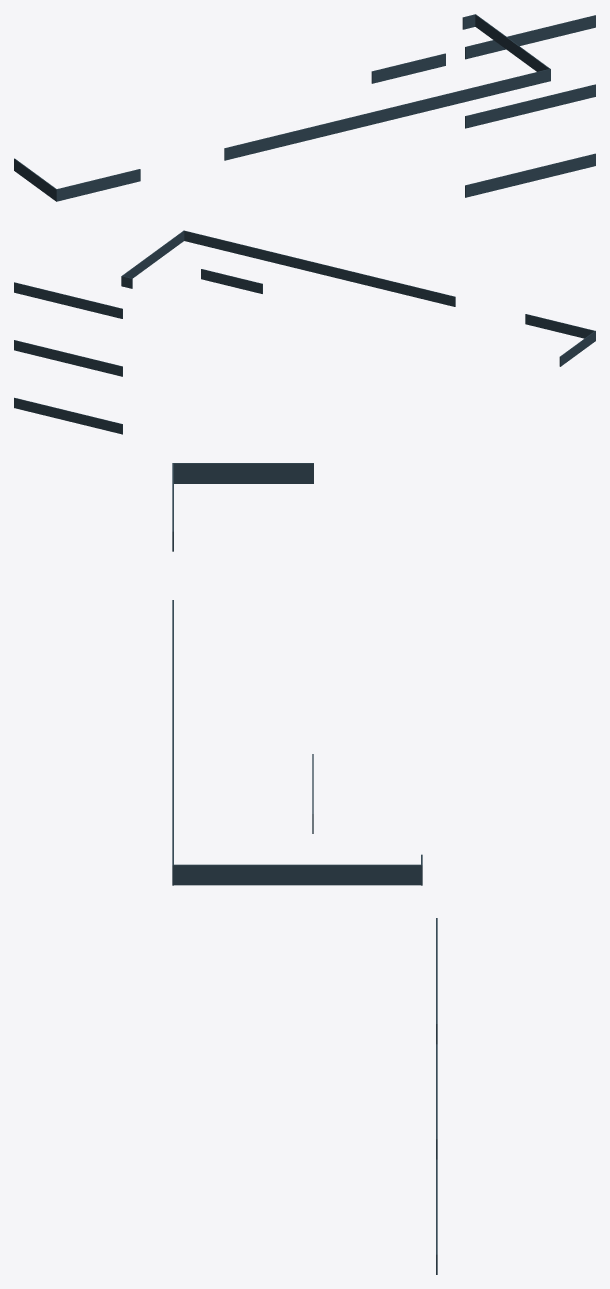
Rendered from v02-04-07-steel.glb.
3 views of the same model, one above another, from view 1: azimuth 30°, elevation 25°; view 2: azimuth 150°, elevation 25°; view 3: azimuth 270°, elevation 25° (orthographic). The views are drawn at different scales.
Parts seen in each view (by area): view 1: v02-04-07-steel; view 2: v02-04-07-steel; view 3: v02-04-07-steel.
Boxes of the visible parts, x1=… form: v02-04-07-steel: x1=14, y1=14, x2=595, y2=201; v02-04-07-steel: x1=14, y1=230, x2=595, y2=434; v02-04-07-steel: x1=172, y1=463, x2=437, y2=1274.
Size of the model in its own units: 58.8 by 16.81 by 13.11.
